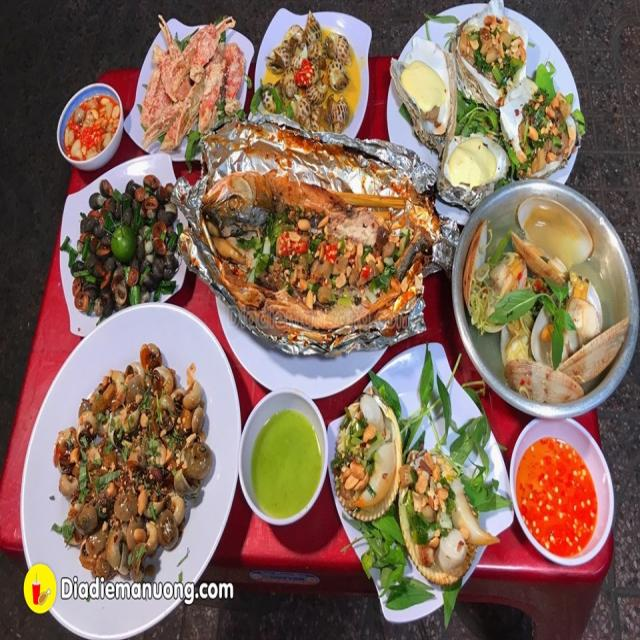ca hap: (192, 157, 432, 348)
cua hap: (140, 14, 250, 150)
hau nuong mo hanh: (456, 13, 588, 158)
hau nuong pho mai: (382, 46, 488, 209)
oc huong xao: (266, 12, 369, 134)
oc xao: (35, 318, 233, 624)
shell nuong mo hanh: (328, 382, 523, 612)
so hap: (455, 192, 640, 417)
